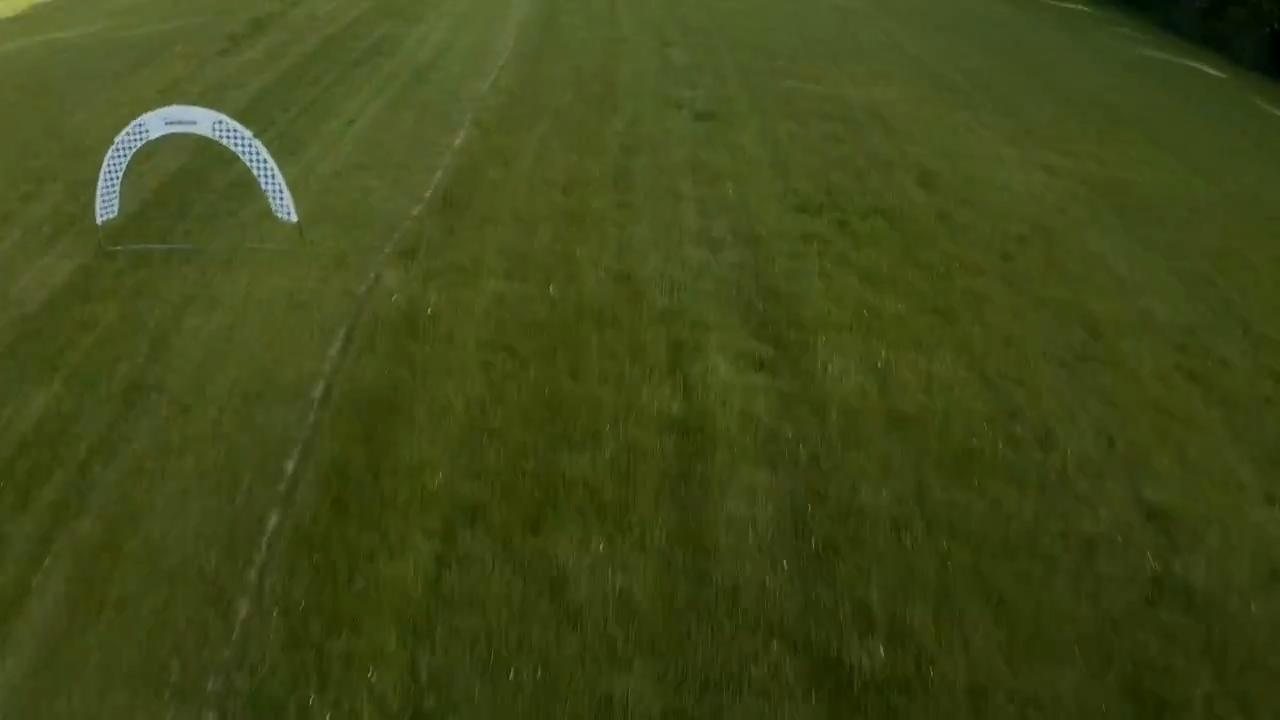gate: (92, 104, 293, 221)
